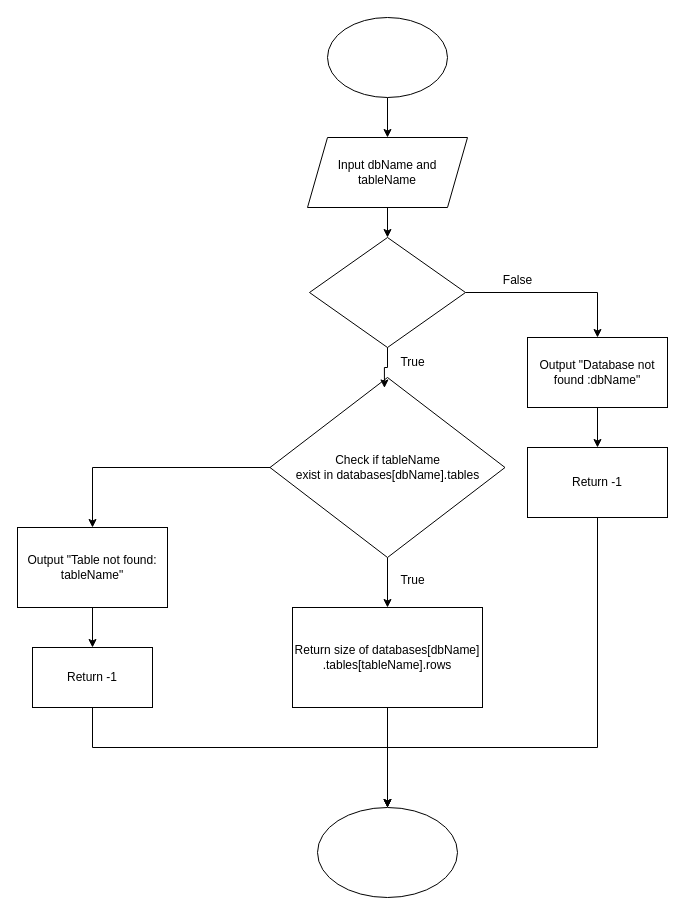
The diagram is 685 pixels wide and 915 high, and some of its shapes have lost their labels. The centre of each missing label's shape, as x and y in pixels:
Check if dbName exists in databases: the point at 387,292
End: the point at 387,852
Start: the point at 387,57
